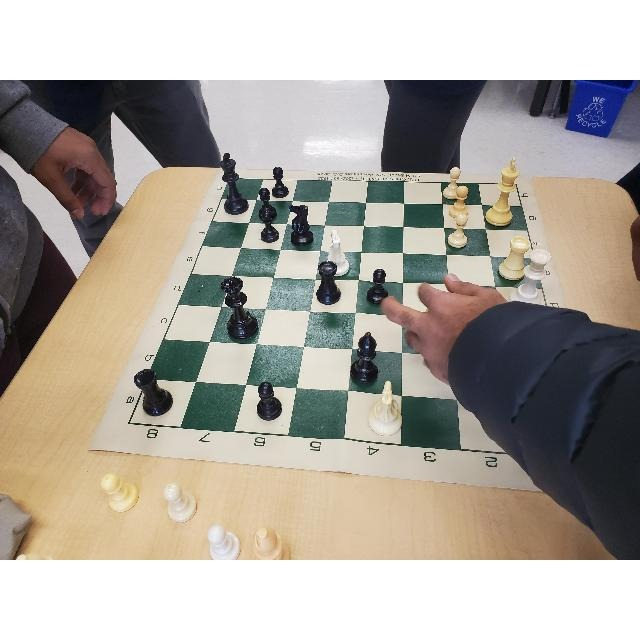black-bishop: (350, 330, 380, 387)
black-king: (218, 152, 250, 216)
black-knight: (289, 204, 315, 248)
black-pawn: (257, 379, 283, 421), (366, 268, 389, 306), (260, 210, 280, 244), (258, 188, 278, 220), (271, 164, 289, 198)
black-queen: (219, 275, 260, 341)
black-rook: (133, 368, 175, 418), (316, 259, 340, 304)
white-king: (485, 157, 517, 227)
white-knight: (368, 380, 402, 436), (324, 229, 349, 275)
white-pawn: (444, 212, 469, 250), (446, 184, 472, 218), (442, 166, 466, 199)
white-queen: (507, 250, 551, 306)
white-rook: (496, 234, 530, 281)
